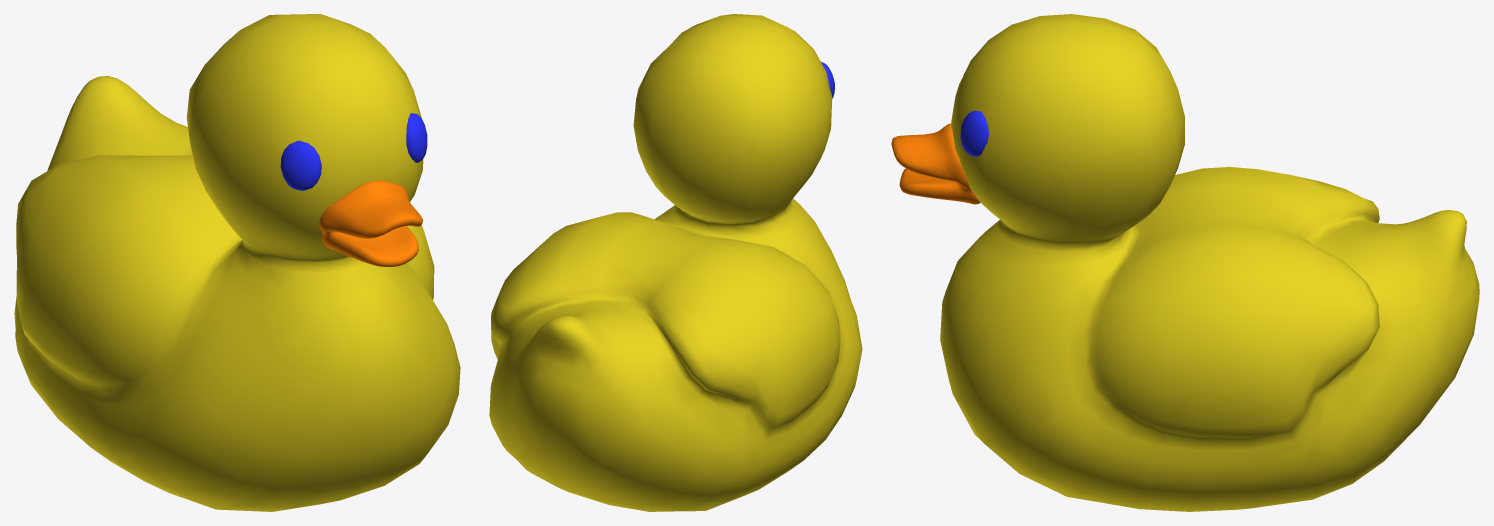
Rendered from Rubber Duck.fbx.
3 renders of one model, left to right at view 1: azimuth 30°, elevation 25°; view 2: azimuth 150°, elevation 25°; view 3: azimuth 270°, elevation 25°, orthographic. The views are drawn at different scales.
Parts seen in each view (by area): view 1: body, bill, eye_1, eye_2; view 2: body; view 3: body, bill, eye_2.
Part boxes in pixels (x1=…): body: x1=14, y1=14, x2=460, y2=511; bill: x1=319, y1=180, x2=422, y2=266; eye_1: x1=280, y1=140, x2=321, y2=190; eye_2: x1=406, y1=113, x2=427, y2=162; body: x1=489, y1=14, x2=862, y2=511; body: x1=940, y1=14, x2=1479, y2=511; bill: x1=891, y1=123, x2=980, y2=204; eye_2: x1=960, y1=110, x2=988, y2=156.
Size of the model in its own units: 1.31 by 1.73 by 2.02.
